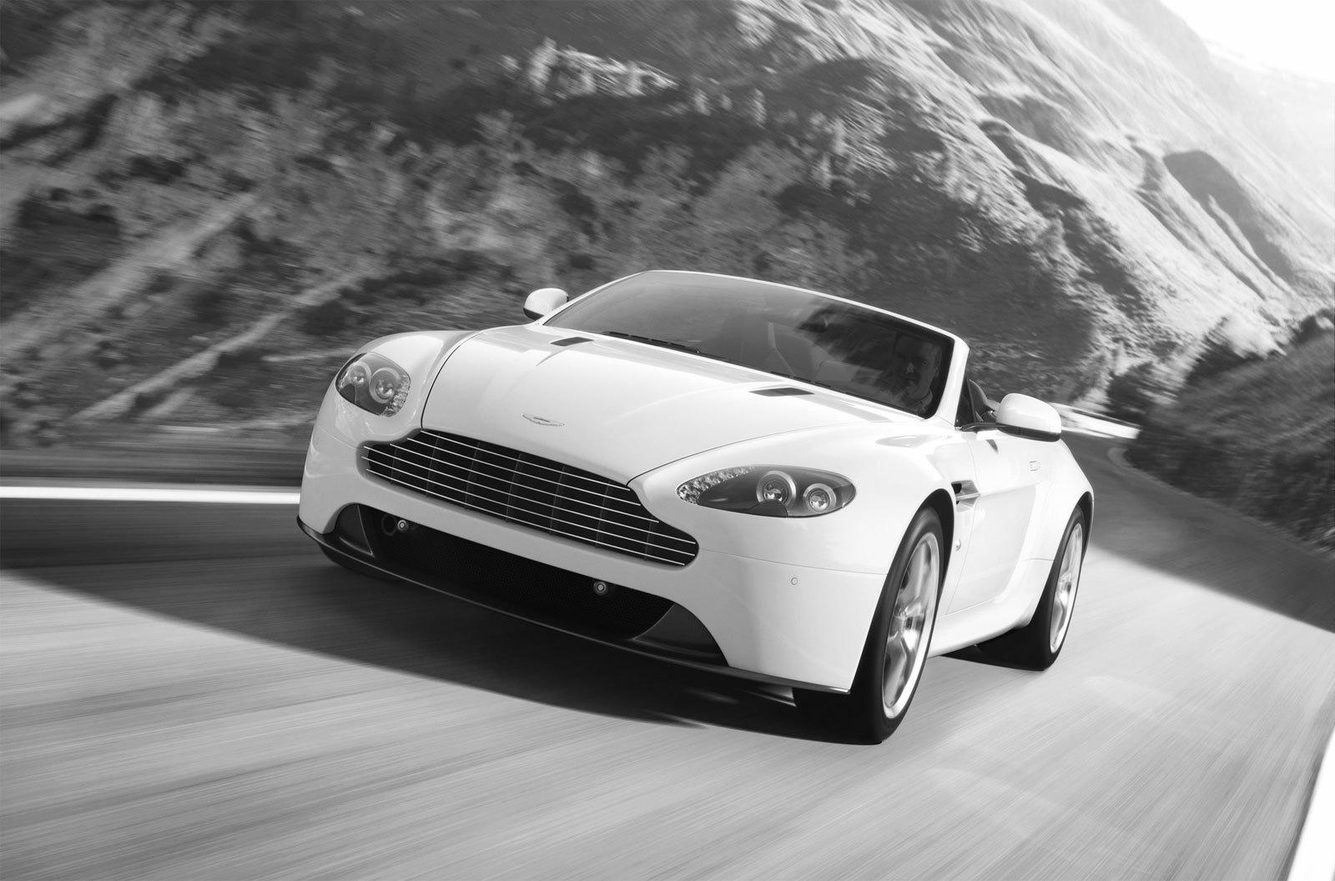car: (296, 269, 1098, 748)
